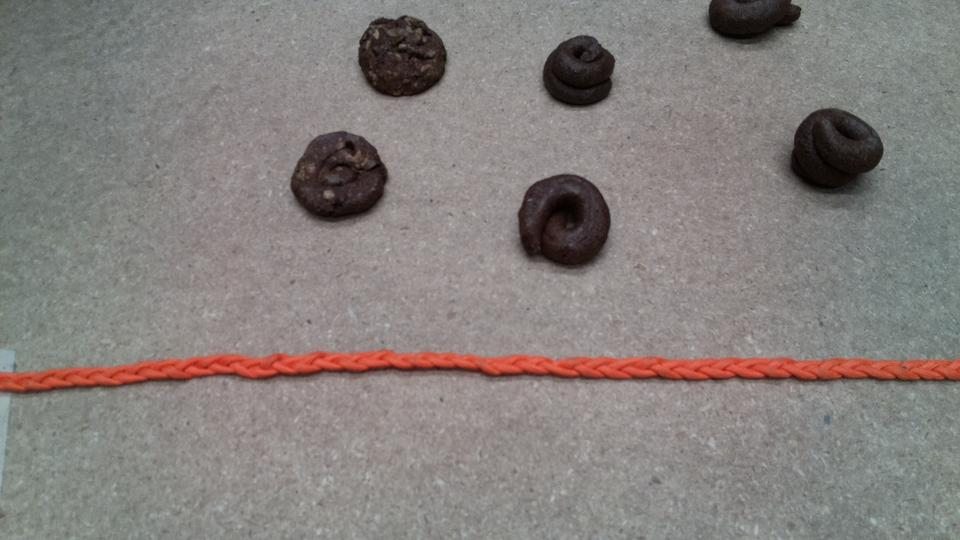poop: (279, 115, 394, 232), (513, 168, 613, 274), (351, 14, 459, 106), (787, 104, 889, 198), (538, 34, 623, 113)
rope: (3, 348, 960, 398)
